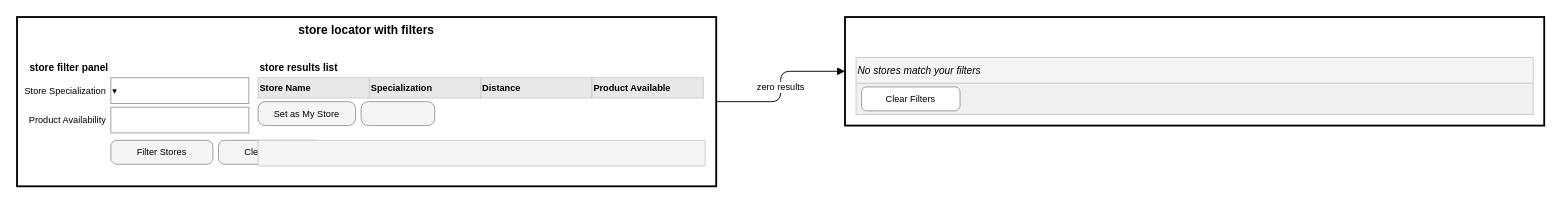
Some shapes in this 1560 by 202 pixel diagram are drawn without their labels. The box of each missing label's shape, as (x1, y1, x2, y2) in pixels:
store locator — no matches: (844, 16, 1545, 126)
View Store: (360, 101, 435, 126)
⭐ Your preferred store: PawPlace Central: (257, 139, 705, 166)
